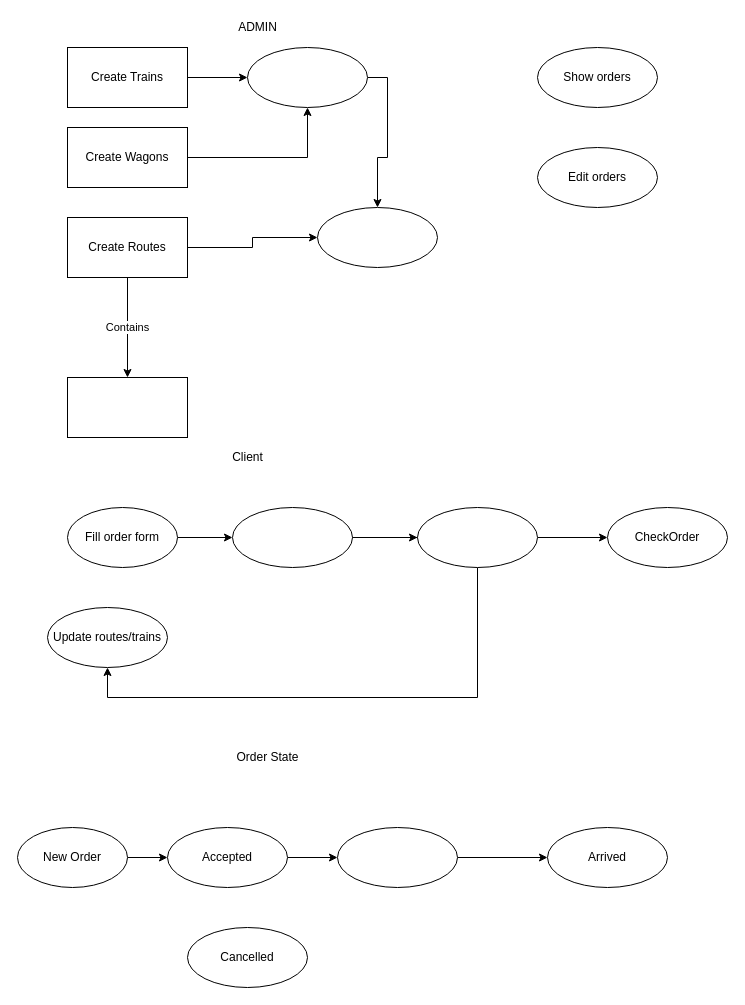
Image size: 745x1005. Some labels were removed from this diagram. Each missing label, with the centre of its shape:
Assign Route to Train: [377,237]
Assign wagons to trains: [307,77]
Check available routes based on order type: [292,537]
Create Train Stations: [127,407]
In Transition: [397,857]
Submit Order: [477,537]
